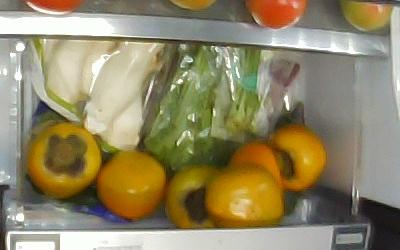persimmon: (26, 123, 101, 198), (204, 163, 286, 225), (98, 150, 167, 220), (164, 165, 231, 229), (267, 123, 329, 192)
